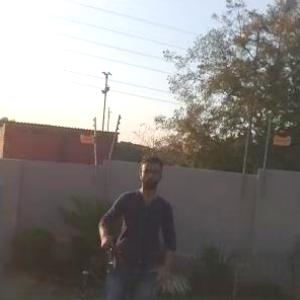follow: (89, 147, 182, 299)
